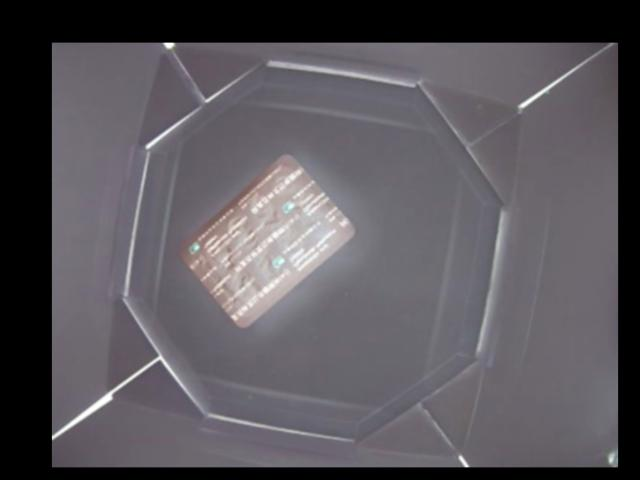Medicine: (181, 148, 355, 330)
